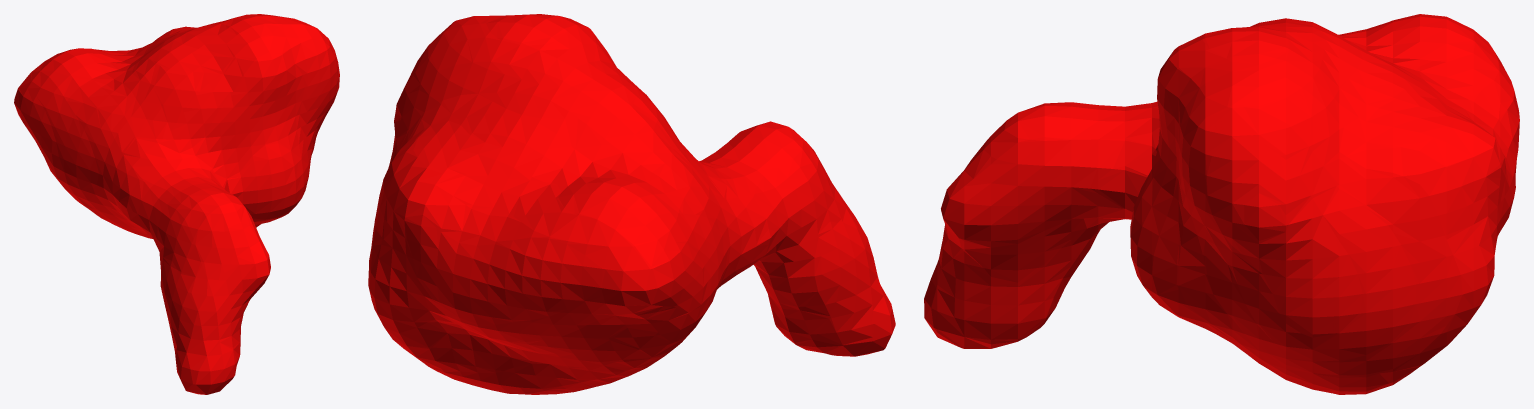
The model's file is ybcJ_coarse.dae.
3 renders of one model, left to right at view 1: azimuth 30°, elevation 25°; view 2: azimuth 150°, elevation 25°; view 3: azimuth 270°, elevation 25°, orthographic. The views are drawn at different scales.
Visible parts, largest first — view 1: ybcJ; view 2: ybcJ; view 3: ybcJ.
Boxes of the visible parts, x1,y1,x2,y2 form: ybcJ: (14, 14, 339, 394); ybcJ: (368, 14, 895, 394); ybcJ: (924, 14, 1519, 394).
Bounding box in the file's own units: 33.74 × 34.07 × 44.66.
